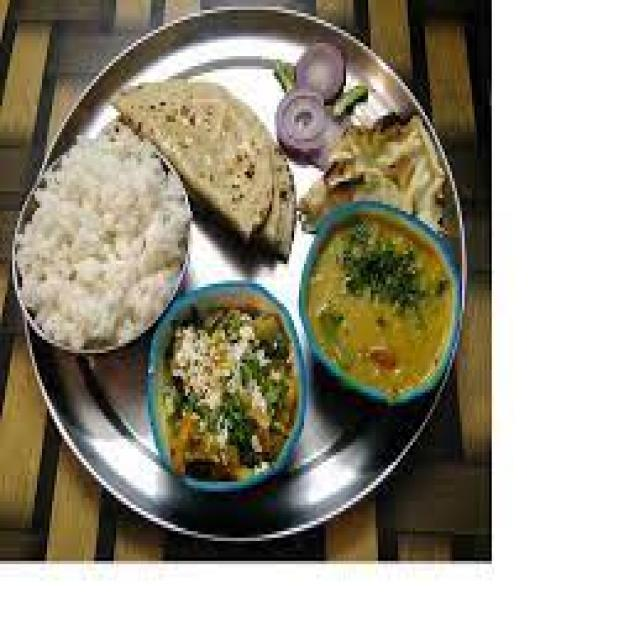dal: (308, 218, 448, 399)
papad: (109, 81, 293, 241), (304, 114, 448, 250)
rice: (23, 133, 183, 353)
roti: (103, 75, 290, 244)
veg-fry: (145, 267, 306, 502), (305, 216, 451, 398)
